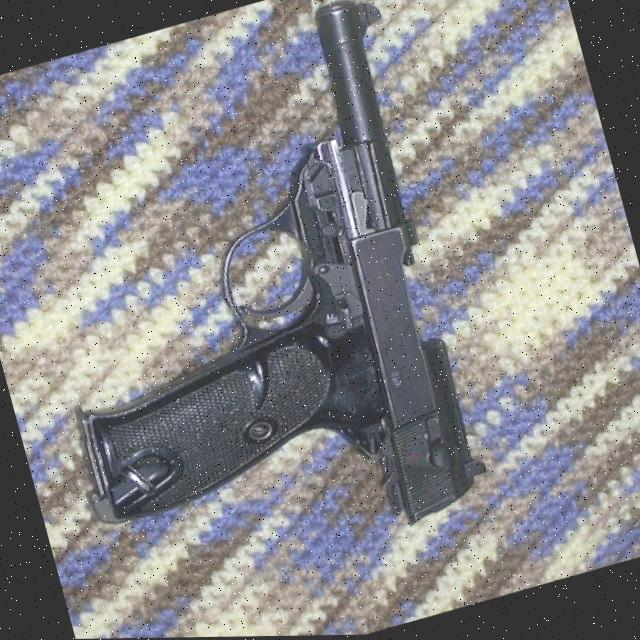pistol: (0, 0, 511, 613)
